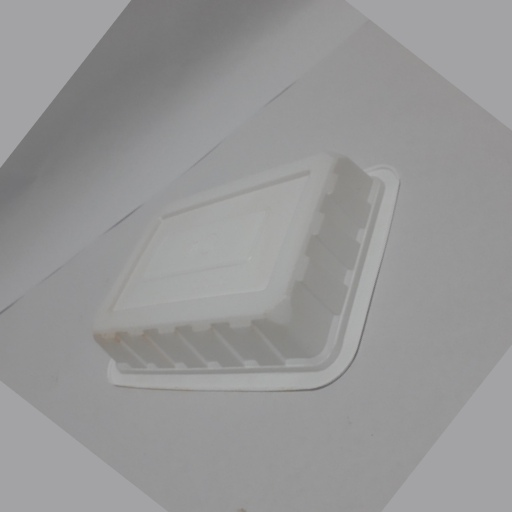Plastic_4: (89, 152, 401, 390)
